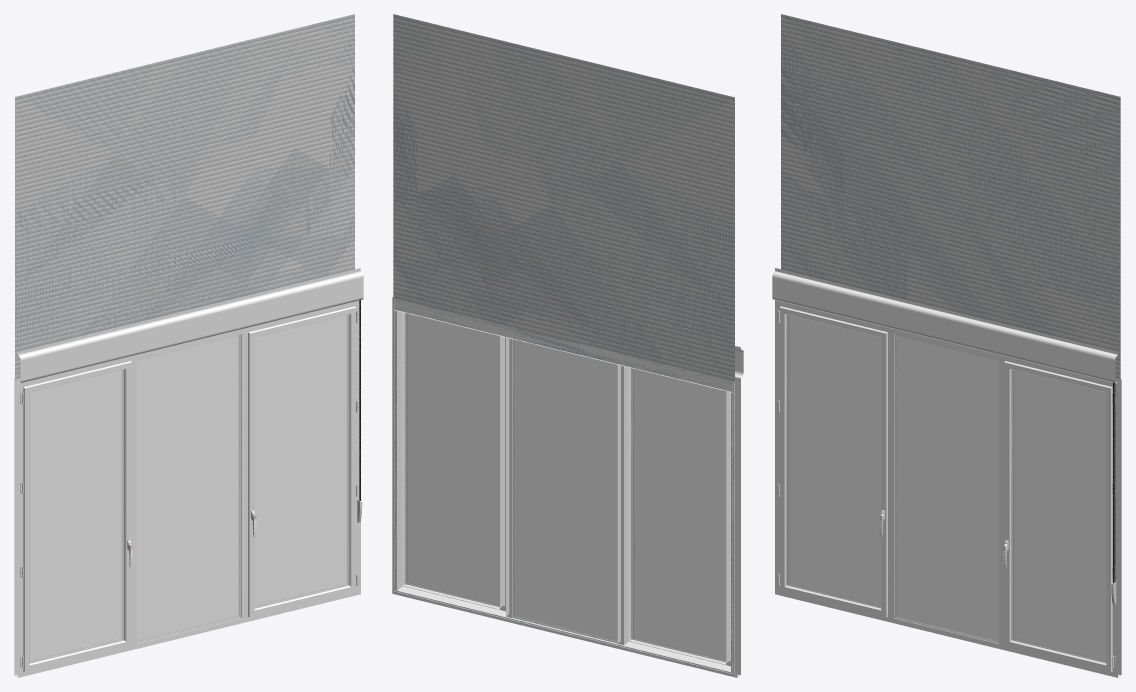
Rendered from Window1_os_220x200x[3 casement_blinds].dae.
The picture shows the model from 3 angles, left to right: view 1: azimuth 30°, elevation 25°; view 2: azimuth 150°, elevation 25°; view 3: azimuth 330°, elevation 25°; orthographic projection.
Parts seen in each view (by area): view 1: group_24, group_2 (×4), group_10 (×2), group_15 (×2), group_29, group_14 (×2), group_9 (×2), group_23; view 2: group_24 (×2), group_2 (×6), group_15 (×2), group_10 (×2), group_23 (×3), group_9 (×4), group_14 (×4); view 3: group_24, group_2 (×4), group_10 (×2), group_15 (×2), group_29, group_9 (×2), group_14 (×2), group_23.
Part boxes in pixels (left/top/right/bottom): group_24: left=15, top=14, right=354, bottom=378; group_2 (×4): left=18, top=300, right=360, bottom=677; group_10 (×2): left=254, top=314, right=349, bottom=608; group_15 (×2): left=30, top=369, right=124, bottom=663; group_29: left=17, top=268, right=363, bottom=383; group_14 (×2): left=23, top=361, right=131, bottom=671; group_9 (×2): left=248, top=306, right=355, bottom=616; group_23: left=14, top=378, right=20, bottom=675; group_24 (×2): left=393, top=14, right=734, bottom=392; group_2 (×6): left=397, top=311, right=740, bottom=675; group_15 (×2): left=631, top=368, right=726, bottom=662; group_10 (×2): left=405, top=313, right=499, bottom=607; group_23 (×3): left=392, top=297, right=737, bottom=677; group_9 (×4): left=398, top=311, right=509, bottom=615; group_14 (×4): left=624, top=366, right=730, bottom=670; group_24: left=781, top=14, right=1120, bottom=378; group_2 (×4): left=775, top=300, right=1117, bottom=677; group_10 (×2): left=1011, top=369, right=1106, bottom=663; group_15 (×2): left=786, top=314, right=881, bottom=608; group_29: left=772, top=268, right=1117, bottom=383; group_9 (×2): left=1004, top=361, right=1112, bottom=671; group_14 (×2): left=780, top=306, right=887, bottom=616; group_23: left=1115, top=378, right=1121, bottom=675.
Bounding box in the file's own units: 86.63 × 4.16 × 139.
12 materials, 1 textured.
